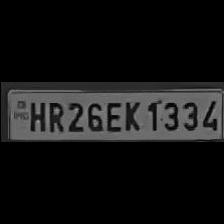1: (141, 98, 159, 132)
2: (64, 100, 84, 132)
3: (160, 98, 180, 132), (179, 98, 199, 132)
4: (198, 97, 218, 131)
6: (82, 100, 102, 132)
E: (104, 98, 122, 132)
H: (25, 98, 45, 132)
K: (121, 98, 141, 132)
R: (44, 99, 62, 134)
